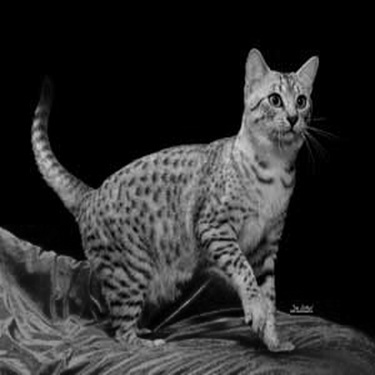cat: (20, 34, 334, 353)
